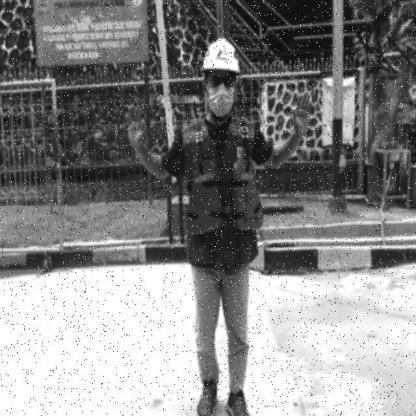boots: (194, 375, 220, 415), (226, 388, 254, 415)
helmet: (202, 37, 240, 75)
mask: (208, 86, 235, 118)
vest: (185, 158, 266, 234)
